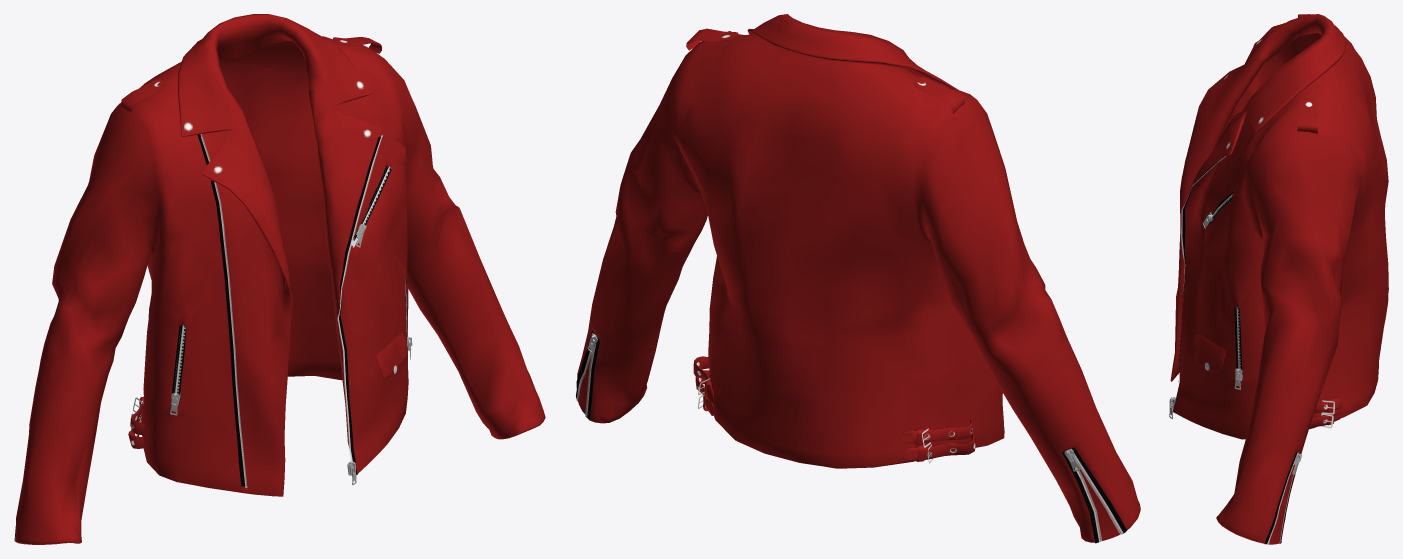
The model's file is redjacket.optimized.glb.
3 renders of one model, left to right at view 1: azimuth 30°, elevation 25°; view 2: azimuth 150°, elevation 25°; view 3: azimuth 270°, elevation 25°, orthographic. The views are drawn at different scales.
Parts seen in each view (by area): view 1: Belt_holder1_JACKET_0, Chian_Side_Zipper_tex_plane_0; view 2: Belt_holder1_JACKET_0, Chian_Side_Zipper_tex_plane_0; view 3: Belt_holder1_JACKET_0, Chian_Side_Zipper_tex_plane_0, Chain:PM3D_Plane3D_1_Chain:blinn1_0.
Part boxes in pixels (x1,y1,x2,y2): Belt_holder1_JACKET_0: [15, 14, 545, 544]; Chian_Side_Zipper_tex_plane_0: [14, 134, 407, 541]; Belt_holder1_JACKET_0: [577, 14, 1140, 542]; Chian_Side_Zipper_tex_plane_0: [576, 330, 1126, 543]; Belt_holder1_JACKET_0: [1170, 14, 1388, 544]; Chian_Side_Zipper_tex_plane_0: [1172, 155, 1299, 544]; Chain:PM3D_Plane3D_1_Chain:blinn1_0: [1169, 212, 1301, 474].
Size of the model in its own units: 8.69 by 7.12 by 3.44.
Materials: 4 (3 with a texture image).
